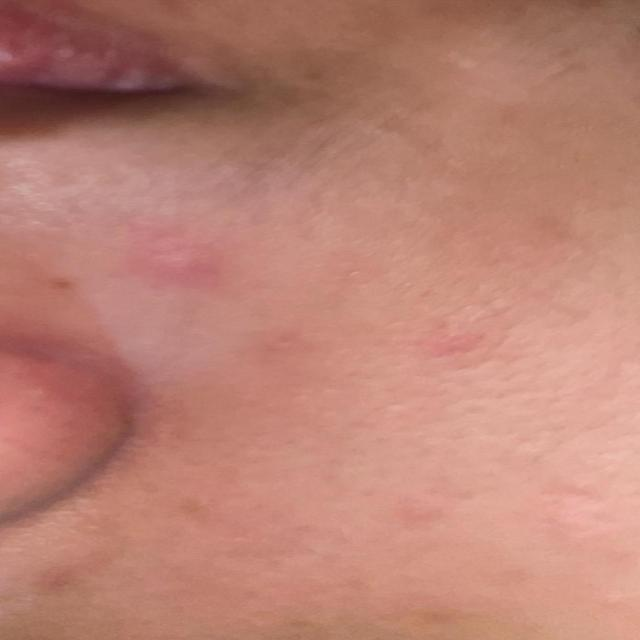papule: (124, 224, 253, 288)
